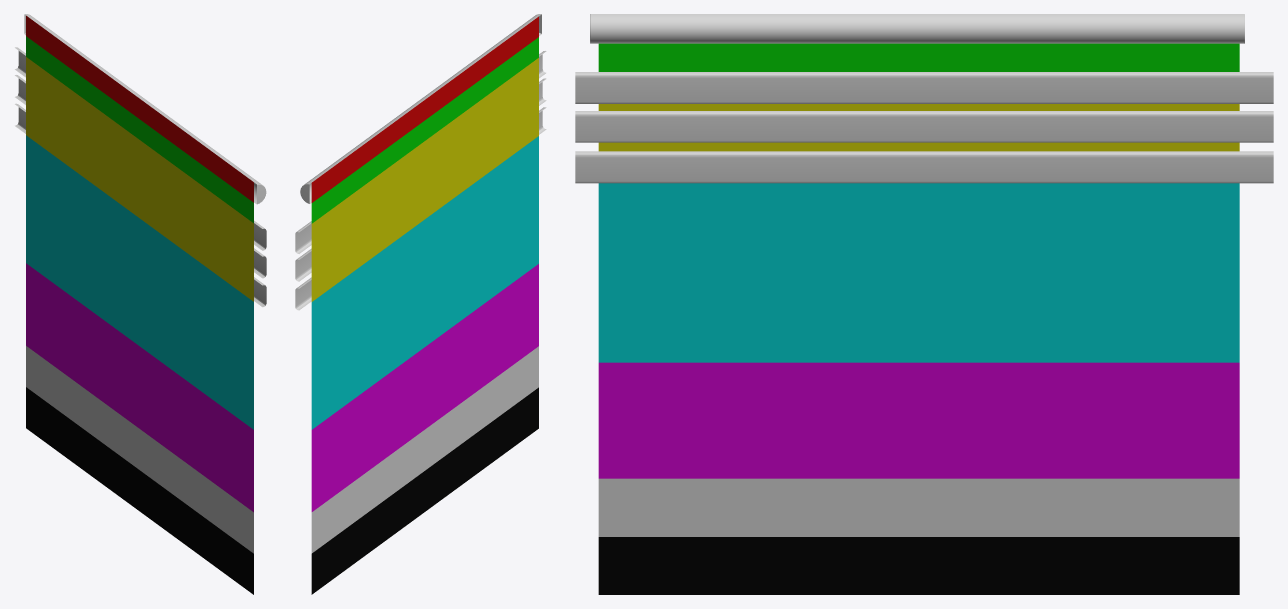
File: Trim_2_High.fbx
3 renders of one model, left to right at view 1: azimuth 30°, elevation 25°; view 2: azimuth 150°, elevation 25°; view 3: azimuth 270°, elevation 25°, orthographic. The views are drawn at different scales.
Visible parts, largest first — view 1: dwad, pCube12, pCylinder2; view 2: dwad, pCube12, pCylinder2; view 3: dwad, pCube12, pCylinder2.
Boxes of the visible parts, bbox=[...] form: dwad: bbox=[26, 15, 253, 594]; pCube12: bbox=[15, 47, 266, 307]; pCylinder2: bbox=[24, 14, 266, 204]; dwad: bbox=[311, 16, 538, 594]; pCube12: bbox=[295, 51, 546, 310]; pCylinder2: bbox=[300, 14, 541, 203]; dwad: bbox=[598, 43, 1239, 594]; pCube12: bbox=[575, 72, 1273, 183]; pCylinder2: bbox=[590, 14, 1244, 43].
Size of the model in its own units: 11.51 by 472 by 514.
